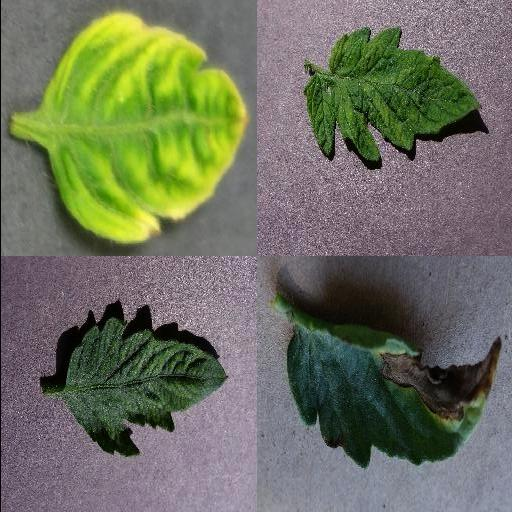Early Blight: (289, 314, 505, 468)
Mosaic Virus: (303, 26, 481, 162), (63, 316, 229, 458)
Yellow Leaf Curl Virus: (46, 9, 248, 245)
